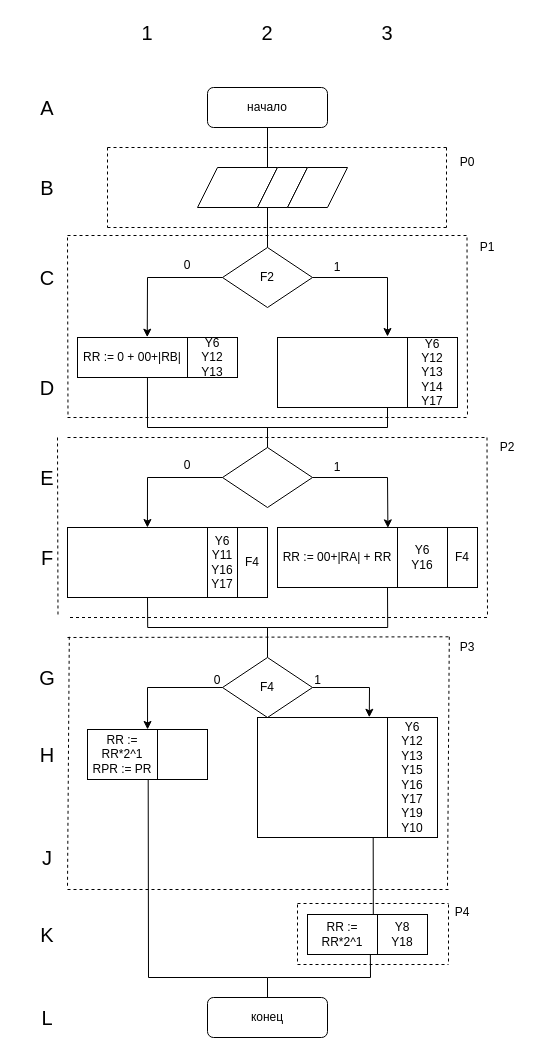
This 554x1055 diagram has some shape labels left out. The box of each missing label's shape, as (x1, y1, x2, y2) in pixels:
F2 F3: (286, 166, 348, 208)
F3: (222, 446, 312, 508)
RA := A RB := B RR := 0: (196, 166, 278, 208)
RR := 0 + 11+N|RB| + 1: (276, 336, 408, 408)
RR := 0 + NRR + 1 RR[3] = 1 RPR := PR: (256, 716, 388, 838)
RR := 11+N|RA| + RR + 1: (66, 526, 208, 598)
Y1 Y4 Y7: (256, 166, 308, 208)
Y8 Y18 Y10: (156, 728, 208, 780)
